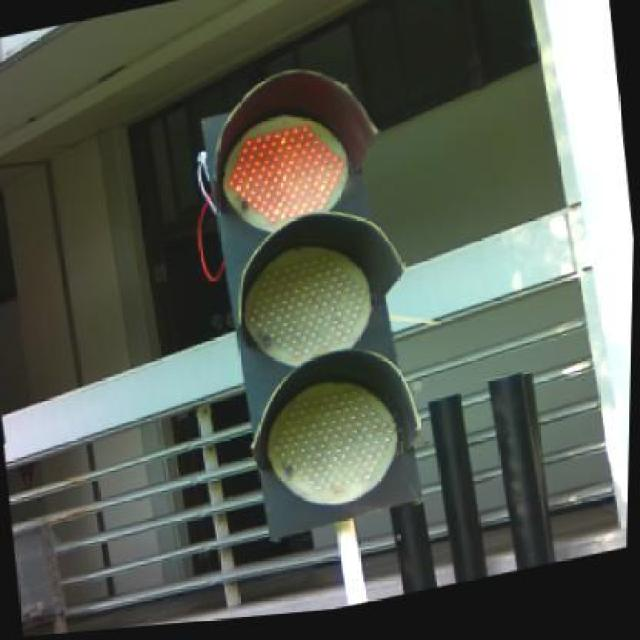Traffic Light -Red-: (183, 50, 443, 552)
